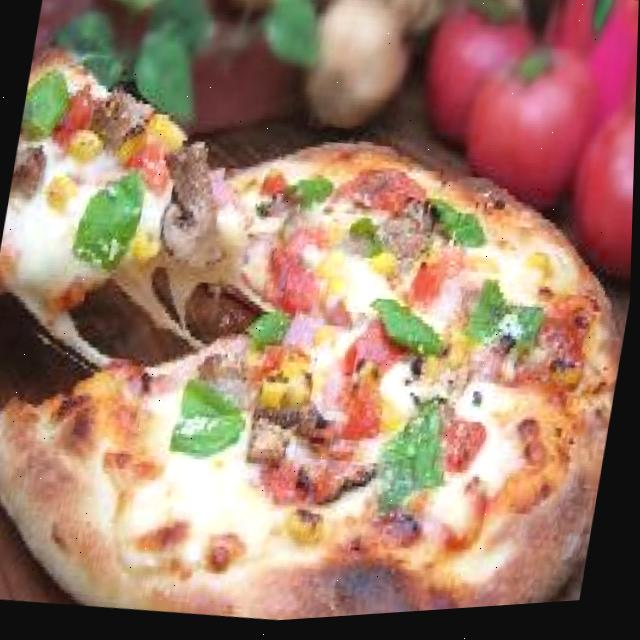汉堡快餐: (0, 59, 638, 640)
